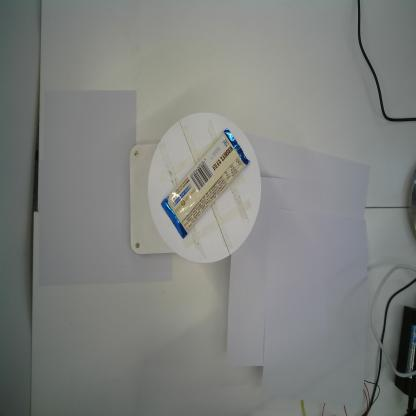Chocolate: (158, 125, 251, 240)
